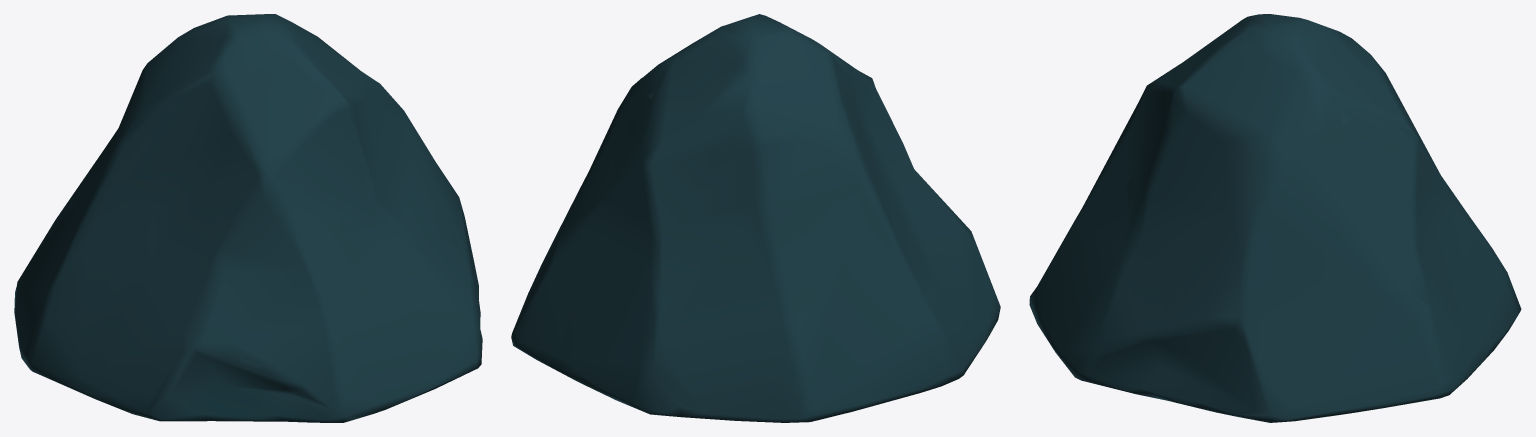
Rendered from gen3d-sea-rock-lod0.glb.
3 views of the same model, side by side, from view 1: azimuth 30°, elevation 25°; view 2: azimuth 150°, elevation 25°; view 3: azimuth 270°, elevation 25° (orthographic).
Visible parts, largest first — view 1: part_0; view 2: part_0; view 3: part_0.
Boxes of the visible parts, x1,y1,x2,y2 form: part_0: (14,14,482,422); part_0: (511,14,1000,422); part_0: (1029,14,1521,422).
Size of the model in its own units: 1.5 by 0.9994 by 1.5.
